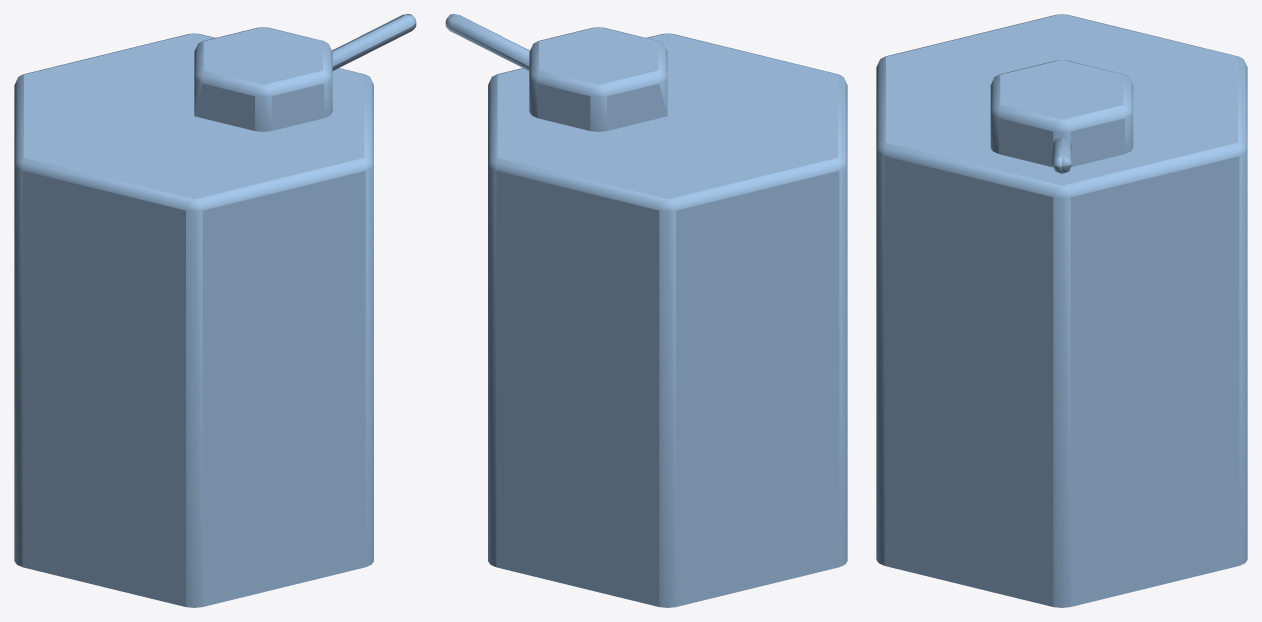
The model's file is XoGao_Up.glb.
The picture shows the model from 3 angles, left to right: view 1: azimuth 30°, elevation 25°; view 2: azimuth 150°, elevation 25°; view 3: azimuth 270°, elevation 25°; orthographic projection. The views are drawn at different scales.
Visible parts, largest first — view 1: geometry_0; view 2: geometry_0; view 3: geometry_0.
Boxes of the visible parts, x1=… form: geometry_0: x1=14, y1=14, x2=416, y2=607; geometry_0: x1=445, y1=14, x2=847, y2=607; geometry_0: x1=876, y1=14, x2=1247, y2=607.
Bounding box in the file's own units: 0.2884 × 0.3144 × 0.2252.
